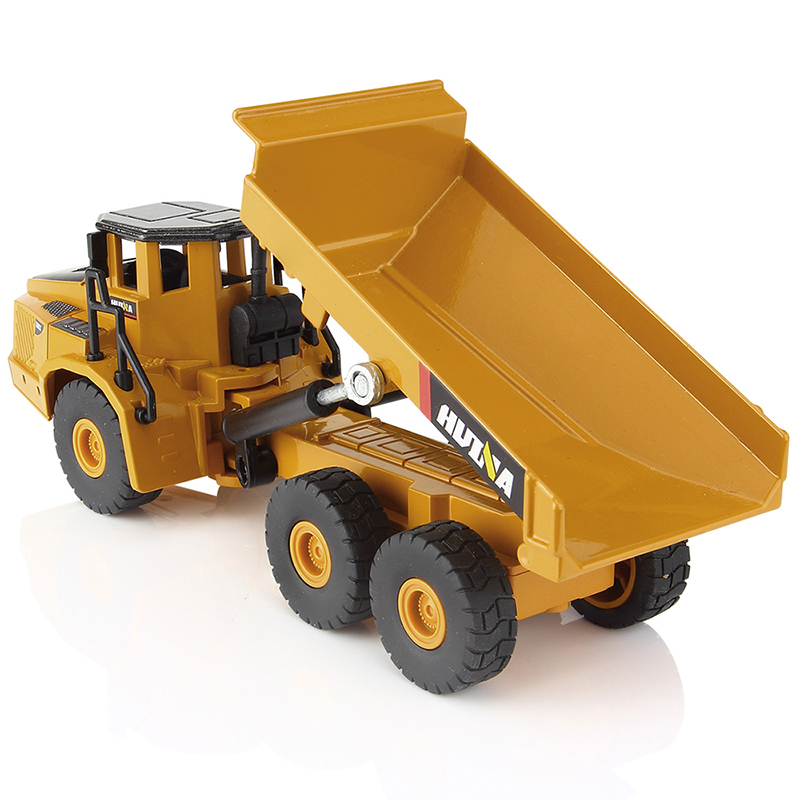truck: (9, 70, 791, 697)
